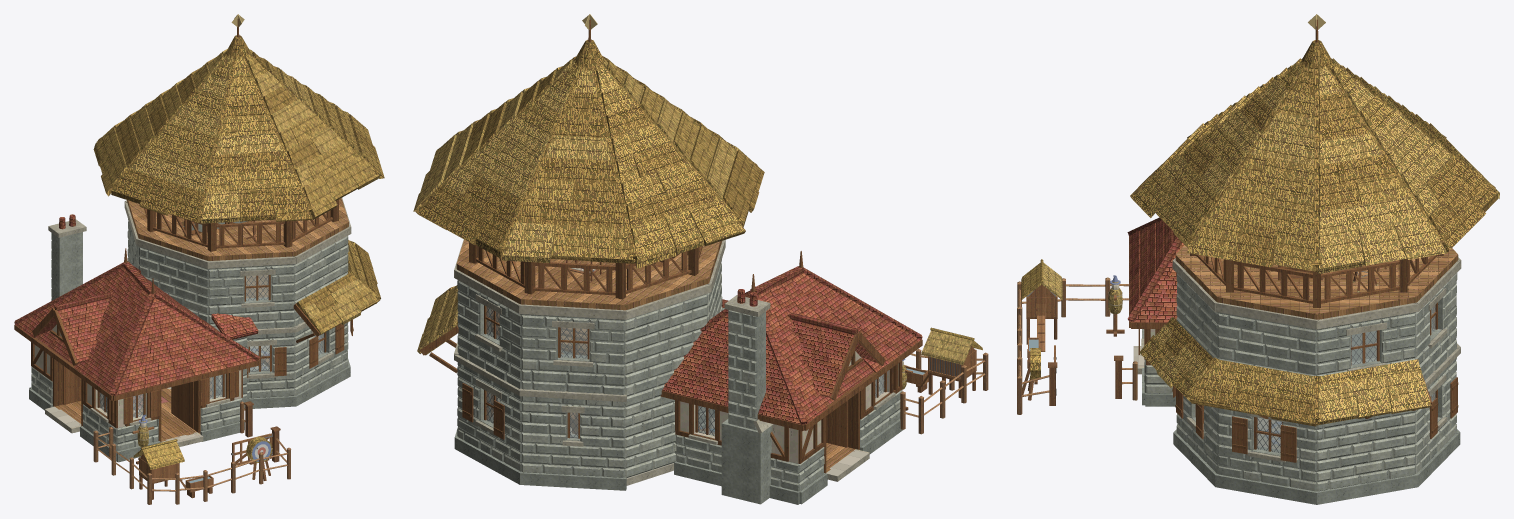
The model's file is mage.glb.
The picture shows the model from 3 angles, left to right: view 1: azimuth 30°, elevation 25°; view 2: azimuth 150°, elevation 25°; view 3: azimuth 270°, elevation 25°; orthographic projection. The views are drawn at different scales.
Parts seen in each view (by area): view 1: Mage_RoofThatch, Mage_Roof, Mage_Shell, Mage_UpperShell, Mage_Yard, Mage_UpperFloorObservatoryTiles, Mage_UpperGallery, Mage_Door, Mage_GlazingLeaded, Mage_UpperFloorObservatory, Mage_FloorGroundTilesBoards, Mage_GlazingLeadedLeads (+2 smaller); view 2: Mage_RoofThatch, Mage_Roof, Mage_Shell, Mage_UpperShell, Mage_UpperFloorObservatoryTiles, Mage_Yard, Mage_UpperGallery, Mage_GlazingLeaded, Mage_UpperFloorObservatory, Mage_GlazingLeadedLeads, Mage_Door, Mage_FloorGround; view 3: Mage_RoofThatch, Mage_Shell, Mage_UpperShell, Mage_Roof, Mage_Yard, Mage_UpperFloorObservatoryTiles, Mage_UpperGallery, Mage_UpperFloorObservatory, Mage_GlazingLeaded, Mage_GlazingLeadedLeads, Mage_FloorGroundTilesFlags.
Boxes of the visible parts, left/top/right/bottom form: Mage_RoofThatch: left=93, top=48, right=384, bottom=335; Mage_Roof: left=14, top=14, right=379, bottom=400; Mage_Shell: left=29, top=319, right=353, bottom=462; Mage_UpperShell: left=124, top=198, right=351, bottom=328; Mage_Yard: left=93, top=401, right=291, bottom=504; Mage_UpperFloorObservatoryTiles: left=128, top=198, right=348, bottom=256; Mage_UpperGallery: left=144, top=199, right=338, bottom=251; Mage_Door: left=63, top=366, right=193, bottom=428; Mage_GlazingLeaded: left=100, top=275, right=323, bottom=418; Mage_UpperFloorObservatory: left=127, top=200, right=348, bottom=260; Mage_FloorGroundTilesBoards: left=55, top=388, right=196, bottom=441; Mage_GlazingLeadedLeads: left=99, top=275, right=324, bottom=417; Mage_RoofThatch: left=413, top=56, right=764, bottom=353; Mage_Roof: left=420, top=14, right=922, bottom=504; Mage_Shell: left=454, top=308, right=903, bottom=504; Mage_UpperShell: left=454, top=239, right=725, bottom=396; Mage_UpperFloorObservatoryTiles: left=456, top=239, right=720, bottom=304; Mage_Yard: left=900, top=327, right=988, bottom=434; Mage_UpperGallery: left=469, top=242, right=702, bottom=299; Mage_GlazingLeaded: left=486, top=307, right=883, bottom=437; Mage_UpperFloorObservatory: left=456, top=241, right=722, bottom=310; Mage_GlazingLeadedLeads: left=486, top=307, right=884, bottom=438; Mage_Door: left=826, top=400, right=847, bottom=447; Mage_FloorGround: left=626, top=449, right=869, bottom=485; Mage_RoofThatch: left=1130, top=58, right=1499, bottom=426; Mage_Shell: left=1138, top=329, right=1460, bottom=504; Mage_UpperShell: left=1172, top=257, right=1461, bottom=380; Mage_Roof: left=1127, top=14, right=1495, bottom=425; Mage_Yard: left=1017, top=259, right=1137, bottom=414; Mage_UpperFloorObservatoryTiles: left=1175, top=245, right=1457, bottom=313; Mage_UpperGallery: left=1190, top=253, right=1443, bottom=307; Mage_UpperFloorObservatory: left=1175, top=255, right=1458, bottom=319; Mage_GlazingLeaded: left=1257, top=305, right=1435, bottom=452; Mage_GlazingLeadedLeads: left=1203, top=307, right=1435, bottom=452; Mage_FloorGroundTilesFlags: left=1133, top=346, right=1281, bottom=449.
Size of the model in its own units: 14.65 by 14.85 by 14.63.
Materials: 41 (26 with a texture image).
